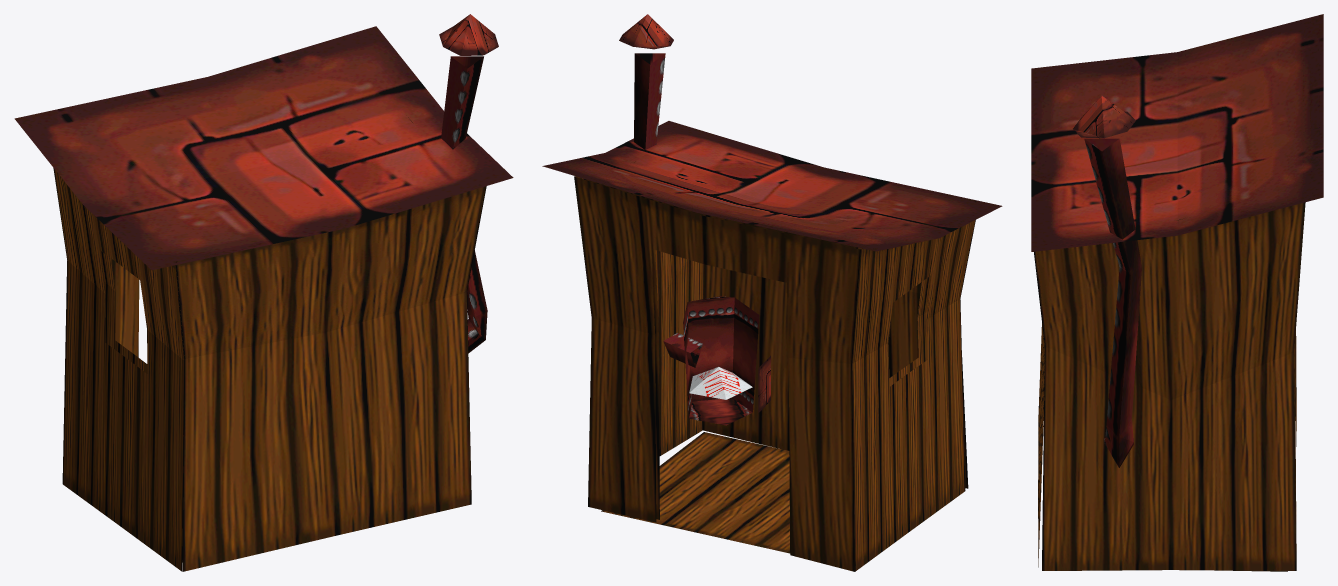
The model's file is Bauhuette_1496.glb.
3 views of the same model, side by side, from view 1: azimuth 30°, elevation 25°; view 2: azimuth 150°, elevation 25°; view 3: azimuth 270°, elevation 25° (orthographic). The views are drawn at different scales.
Parts seen in each view (by area): view 1: pPlaneShape44, pPlaneShape26, pPlaneShape46, pCylinderShape25, pPlaneShape43, pPlaneShape31, pPlaneShape47; view 2: pPlaneShape42, pPlaneShape46, pPlaneShape26, pPlaneShape41, pPlaneShape45, pCylinderShape23, pPlaneShape49, pCylinderShape25, pPlaneShape43, pCylinderShape24, pPlaneShape31, pPlaneShape47 (+1 smaller); view 3: pPlaneShape48, pPlaneShape26, pCylinderShape25, pPlaneShape31, pPlaneShape44.
Boxes of the visible parts, x1,y1,x2,y2 form: pPlaneShape44: [176, 186, 484, 571]; pPlaneShape26: [14, 26, 513, 270]; pPlaneShape46: [53, 168, 184, 571]; pCylinderShape25: [441, 56, 487, 353]; pPlaneShape43: [111, 259, 139, 357]; pPlaneShape31: [439, 14, 498, 55]; pPlaneShape47: [100, 251, 184, 562]; pPlaneShape42: [574, 176, 860, 571]; pPlaneShape46: [852, 220, 975, 571]; pPlaneShape26: [542, 121, 1002, 251]; pPlaneShape41: [601, 432, 790, 553]; pPlaneShape45: [703, 264, 921, 450]; pCylinderShape23: [683, 297, 759, 425]; pPlaneShape49: [634, 161, 703, 455]; pCylinderShape25: [634, 53, 702, 367]; pPlaneShape43: [584, 179, 857, 519]; pCylinderShape24: [689, 367, 752, 399]; pPlaneShape31: [619, 14, 673, 49]; pPlaneShape47: [857, 247, 931, 386]; pPlaneShape48: [1034, 202, 1305, 570]; pPlaneShape26: [1031, 14, 1323, 251]; pCylinderShape25: [1084, 138, 1141, 467]; pPlaneShape31: [1073, 95, 1135, 138]; pPlaneShape44: [1037, 254, 1045, 567].
Size of the model in its own units: 0.3775 by 0.4446 by 0.2376.
18 materials, 18 textured.
